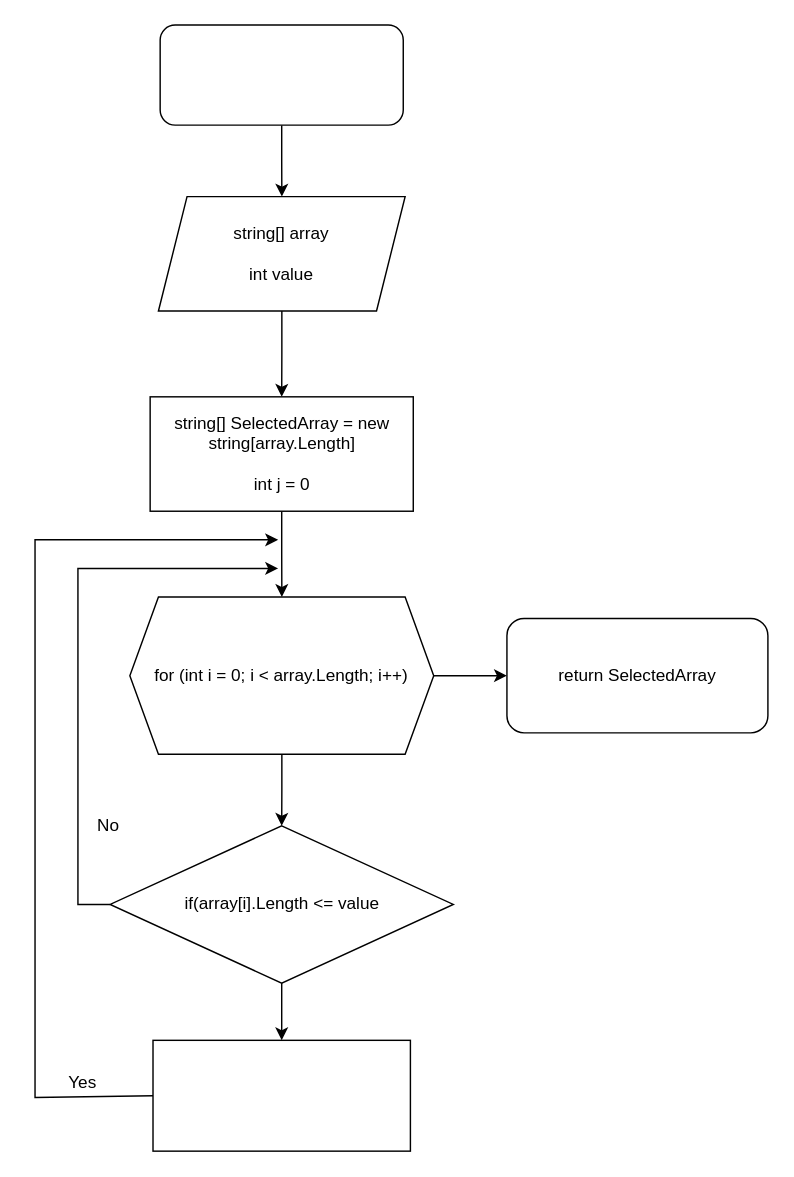
Image size: 794x1177. Some labels were removed from this diagram. The shapes that lost their labels are listed below. From the top down, each one's box as (x1, y1, x2, y2) in pixels, then its label:
(159, 24, 403, 125): SelectStringsByLength
(152, 1039, 410, 1151): SelectedArray [j] = array[i] j++
